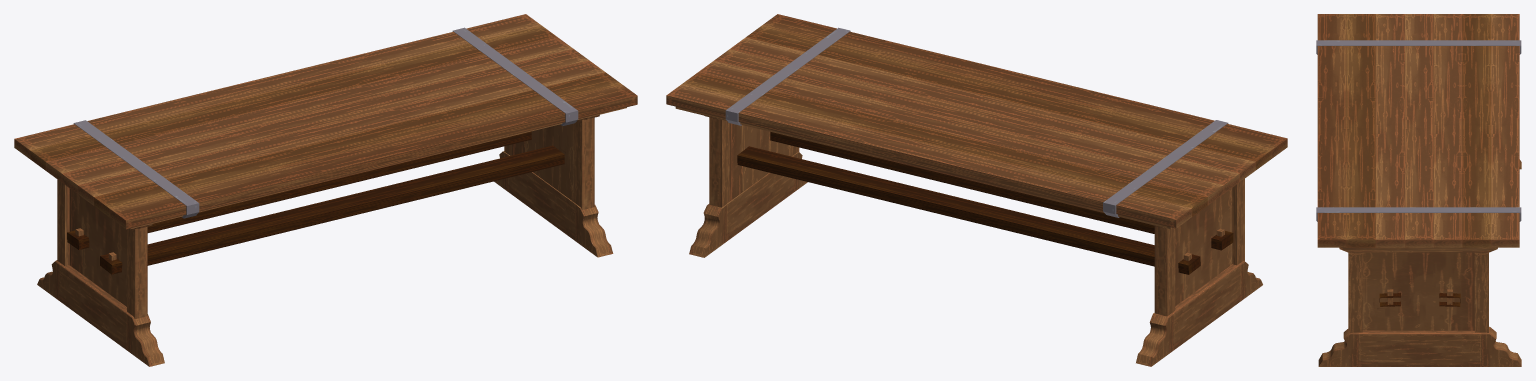
Rendered from Table_Large.gltf.
3 renders of one model, left to right at view 1: azimuth 30°, elevation 25°; view 2: azimuth 150°, elevation 25°; view 3: azimuth 270°, elevation 25°, orthographic. The views are drawn at different scales.
Parts seen in each view (by area): view 1: Table_Large; view 2: Table_Large; view 3: Table_Large.
Part boxes in pixels (x1,y1,x2,y2): Table_Large: (14, 14, 637, 366); Table_Large: (666, 14, 1287, 366); Table_Large: (1316, 14, 1521, 366).
Size of the model in its own units: 2.85 by 0.8134 by 1.1.
2 materials, 2 textured.
